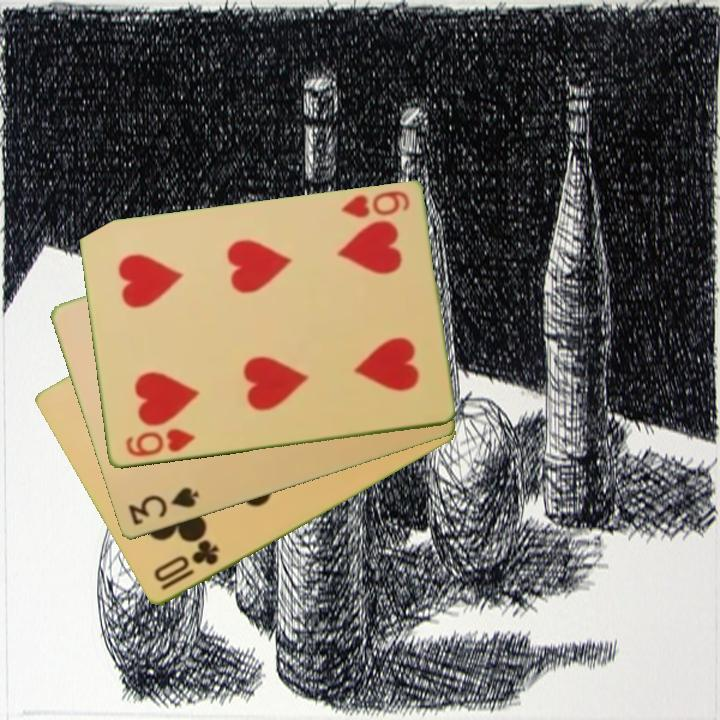10c: (150, 537, 222, 594)
3s: (124, 484, 202, 529)
6h: (121, 425, 198, 461), (337, 188, 412, 222)
